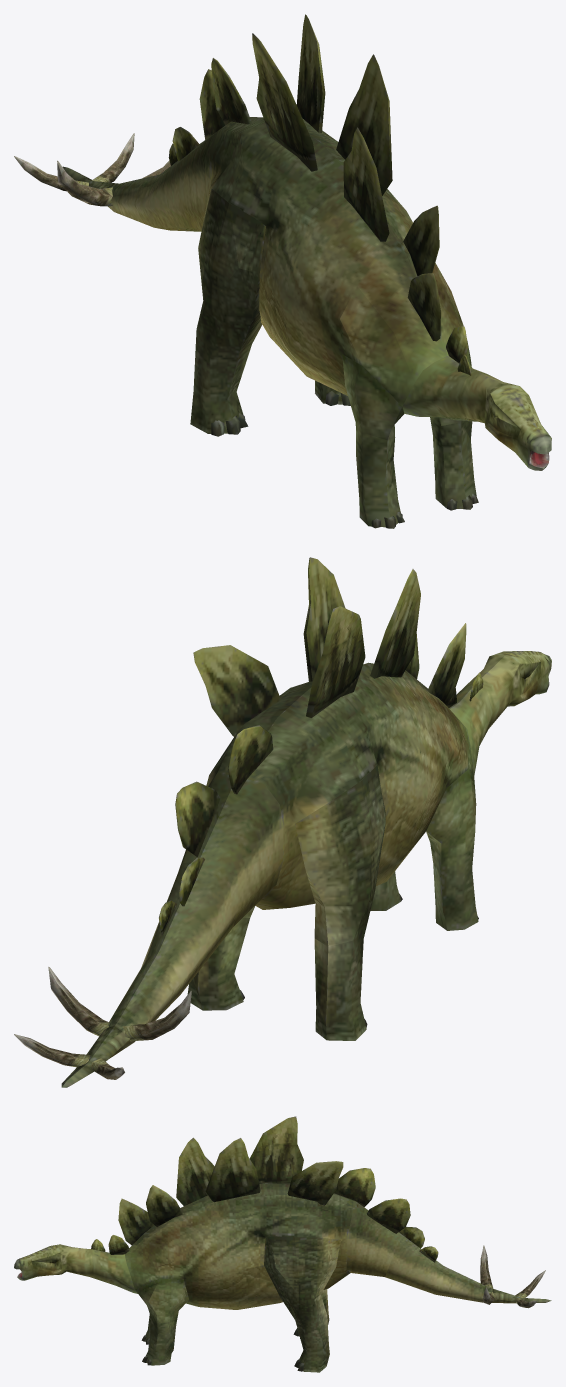
The model's file is steg.obj.
The picture shows the model from 3 angles, top to bottom: view 1: azimuth 30°, elevation 25°; view 2: azimuth 150°, elevation 25°; view 3: azimuth 270°, elevation 25°; orthographic projection. The views are drawn at different scales.
Visible parts, largest first — view 1: steg; view 2: steg; view 3: steg.
Part boxes in pixels (x1,y1,x2,y2): steg: (14, 14, 551, 528); steg: (14, 557, 551, 1087); steg: (14, 1116, 551, 1372).
Size of the model in its own units: 1.73 by 4.01 by 8.77.
1 material, 1 textured.
